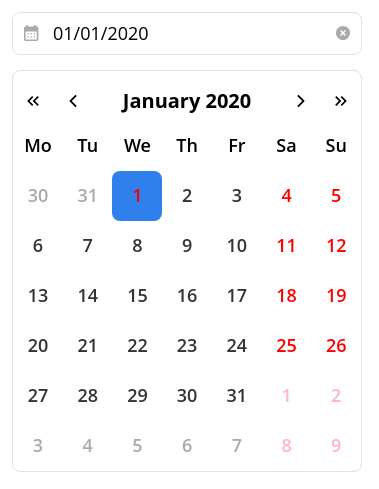
Scenario: DatePicker › select prev year on month change
Click the button with test id "prev-month" at point(73, 101), box [53,81,93,121]
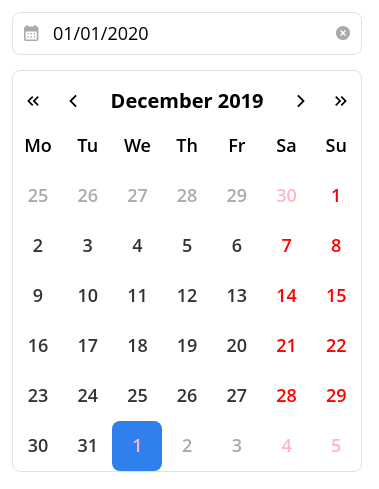
Result: the text with test id "calendar-type" reads "December 2019" at [111,87,263,114]
